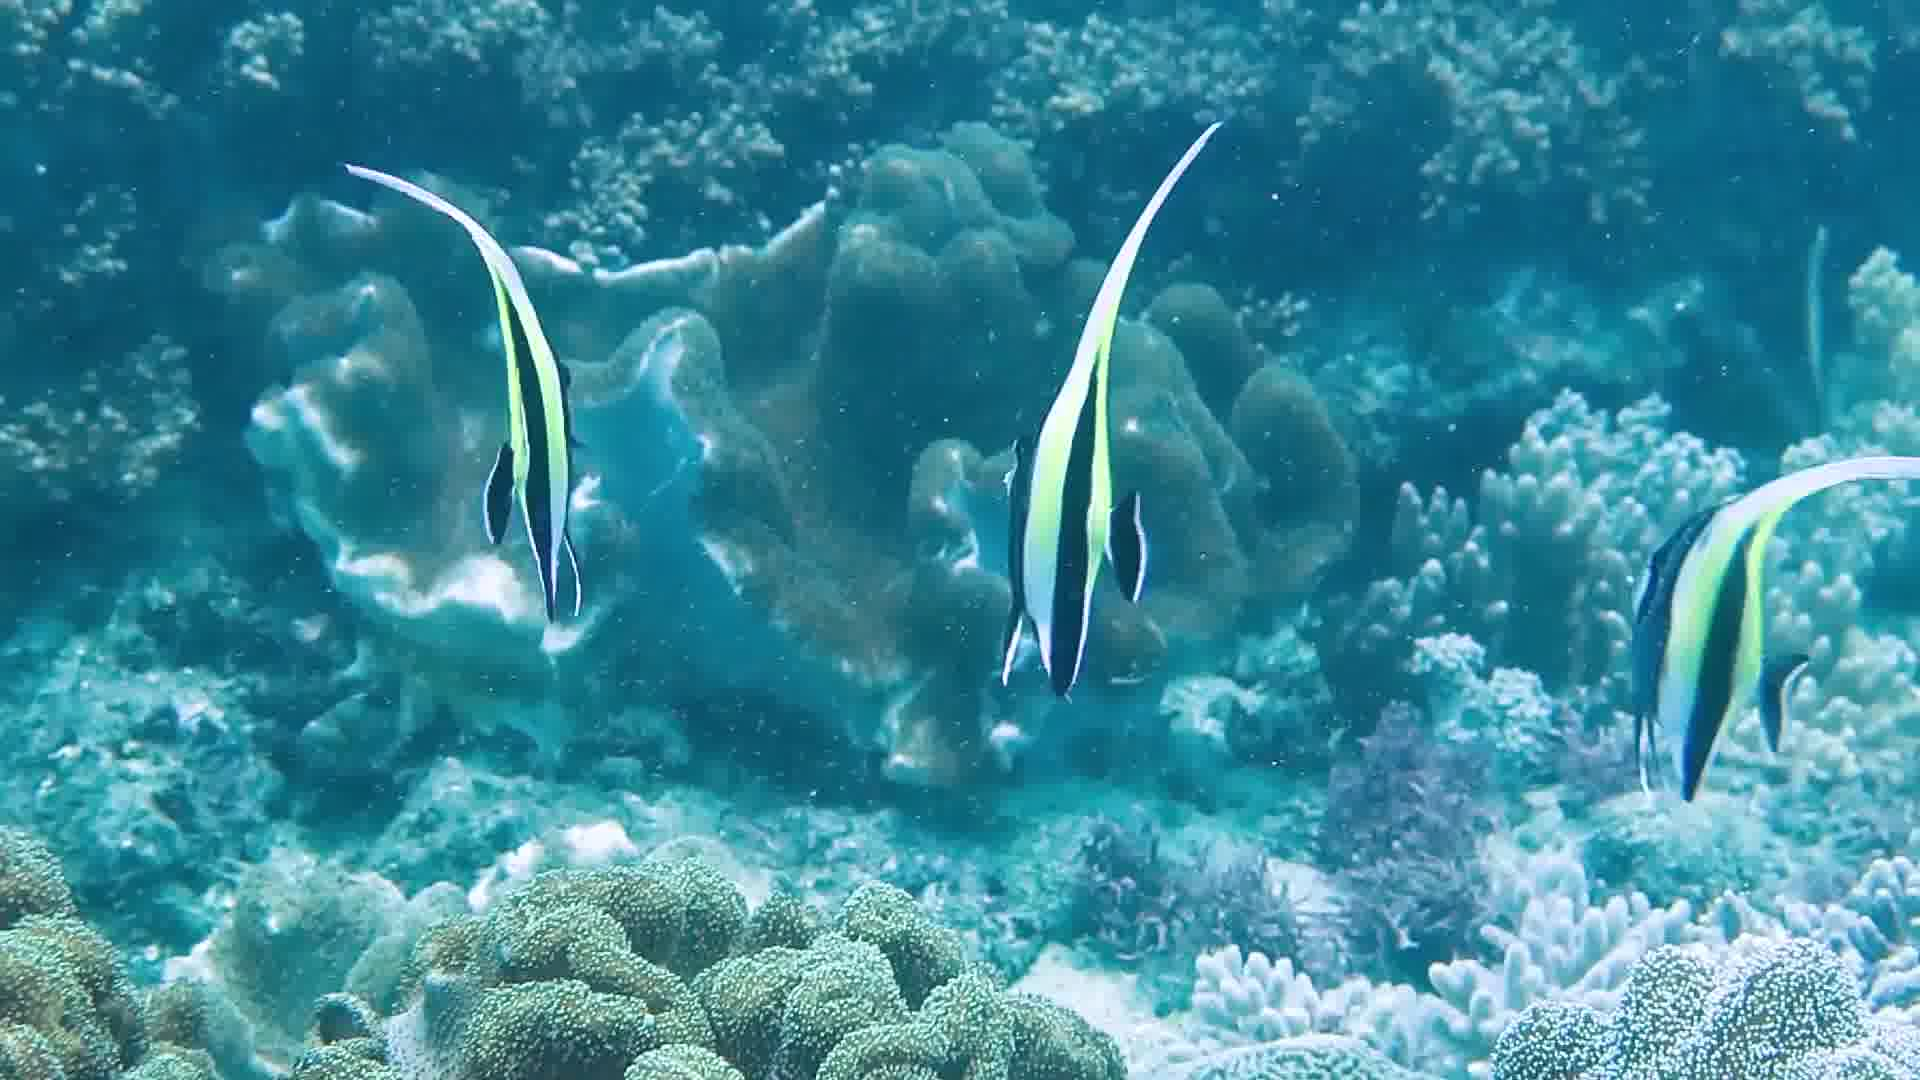Zanclus cornutus: (380, 218, 633, 633), (949, 262, 1159, 720), (1600, 425, 1826, 815)
